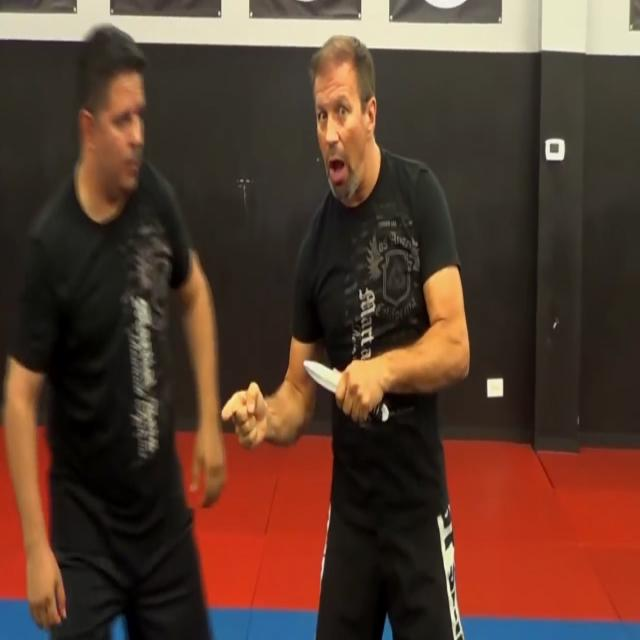knife: (297, 357, 341, 399)
